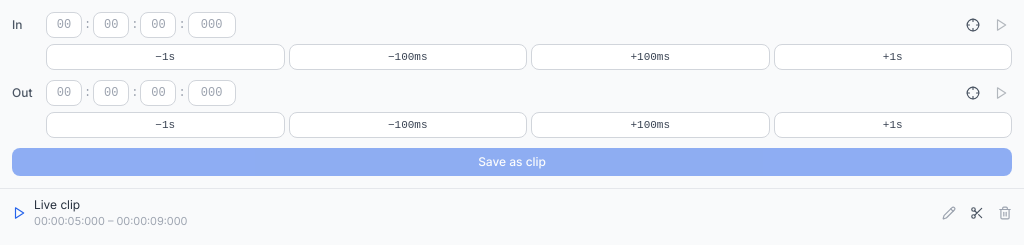
Scenario: ClipEditor, deleting a clip › keeps the clip when the confirm is cancelled
Click the button named "Delete this clip".
click(1005, 213)  # box [998,206,1012,220]
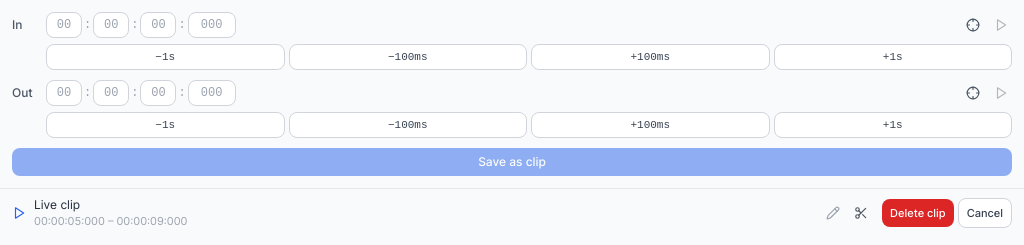
Click the button "Cancel".
click(985, 213)  # box [958,198,1012,228]
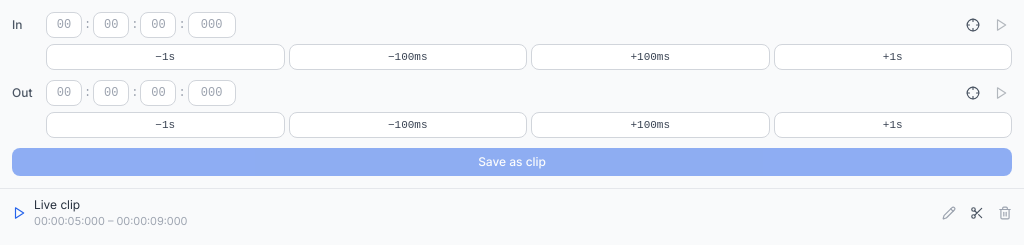
Expected: the link "Live clip" is shown, [34,197,80,212]
Result: the button named "Delete this clip" is shown at [998,206,1012,220]
